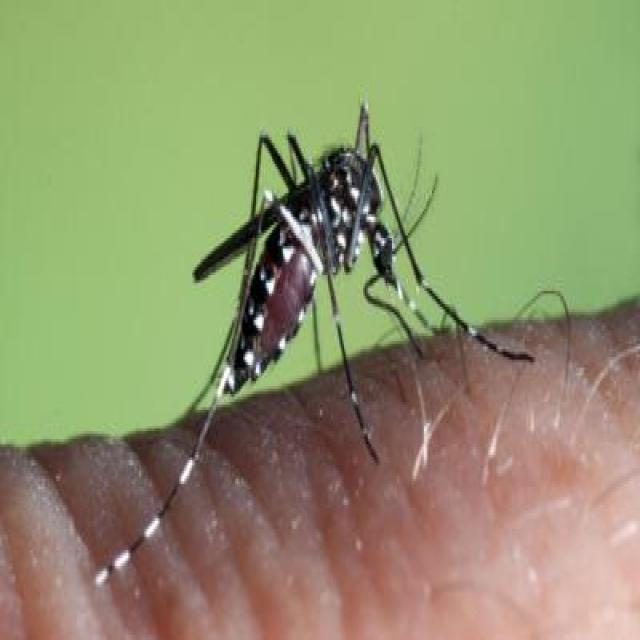antennae: (386, 130, 443, 258)
body: (220, 148, 390, 397)
insect: (90, 99, 534, 581)
legs: (92, 148, 271, 582), (316, 196, 384, 464), (407, 232, 532, 366)
mouthpart: (364, 245, 437, 379)
wings: (194, 170, 311, 284)
